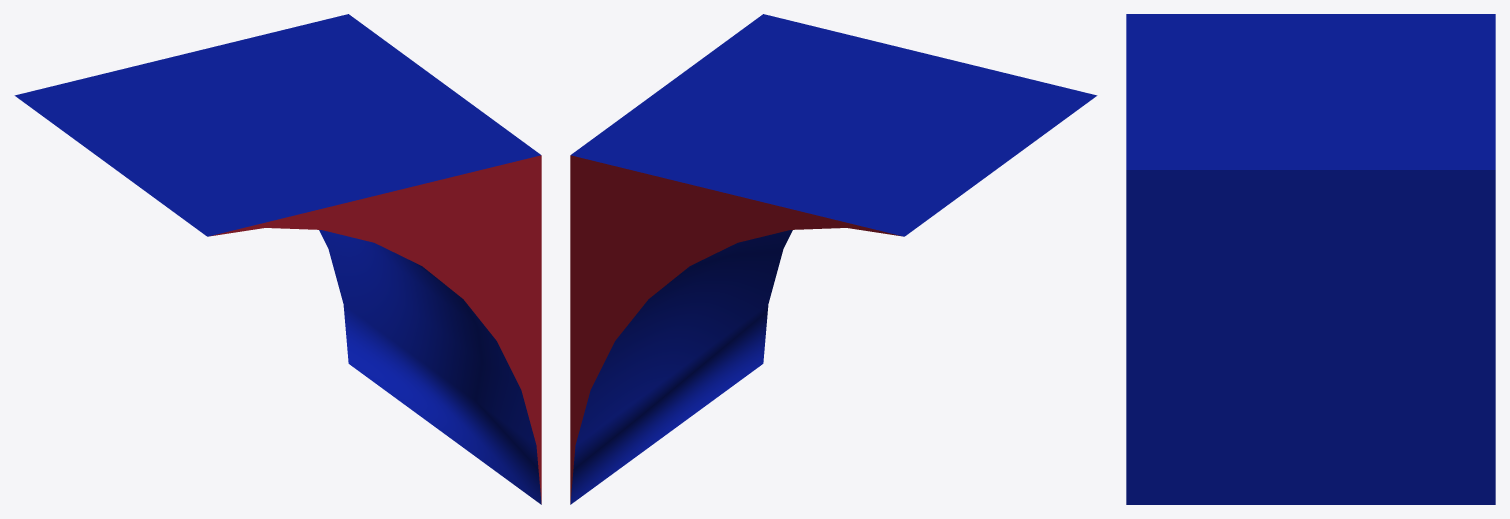
The model's file is 1x1_Arch_a.fbx.
3 views of the same model, side by side, from view 1: azimuth 30°, elevation 25°; view 2: azimuth 150°, elevation 25°; view 3: azimuth 270°, elevation 25° (orthographic). The views are drawn at different scales.
Visible parts, largest first — view 1: _x1_Arch_a; view 2: _x1_Arch_a; view 3: _x1_Arch_a.
Boxes of the visible parts, left/top/right/bottom form: _x1_Arch_a: left=14, top=14, right=541, bottom=504; _x1_Arch_a: left=570, top=14, right=1097, bottom=504; _x1_Arch_a: left=1126, top=14, right=1495, bottom=504.
Size of the model in its own units: 1 by 1 by 1.
